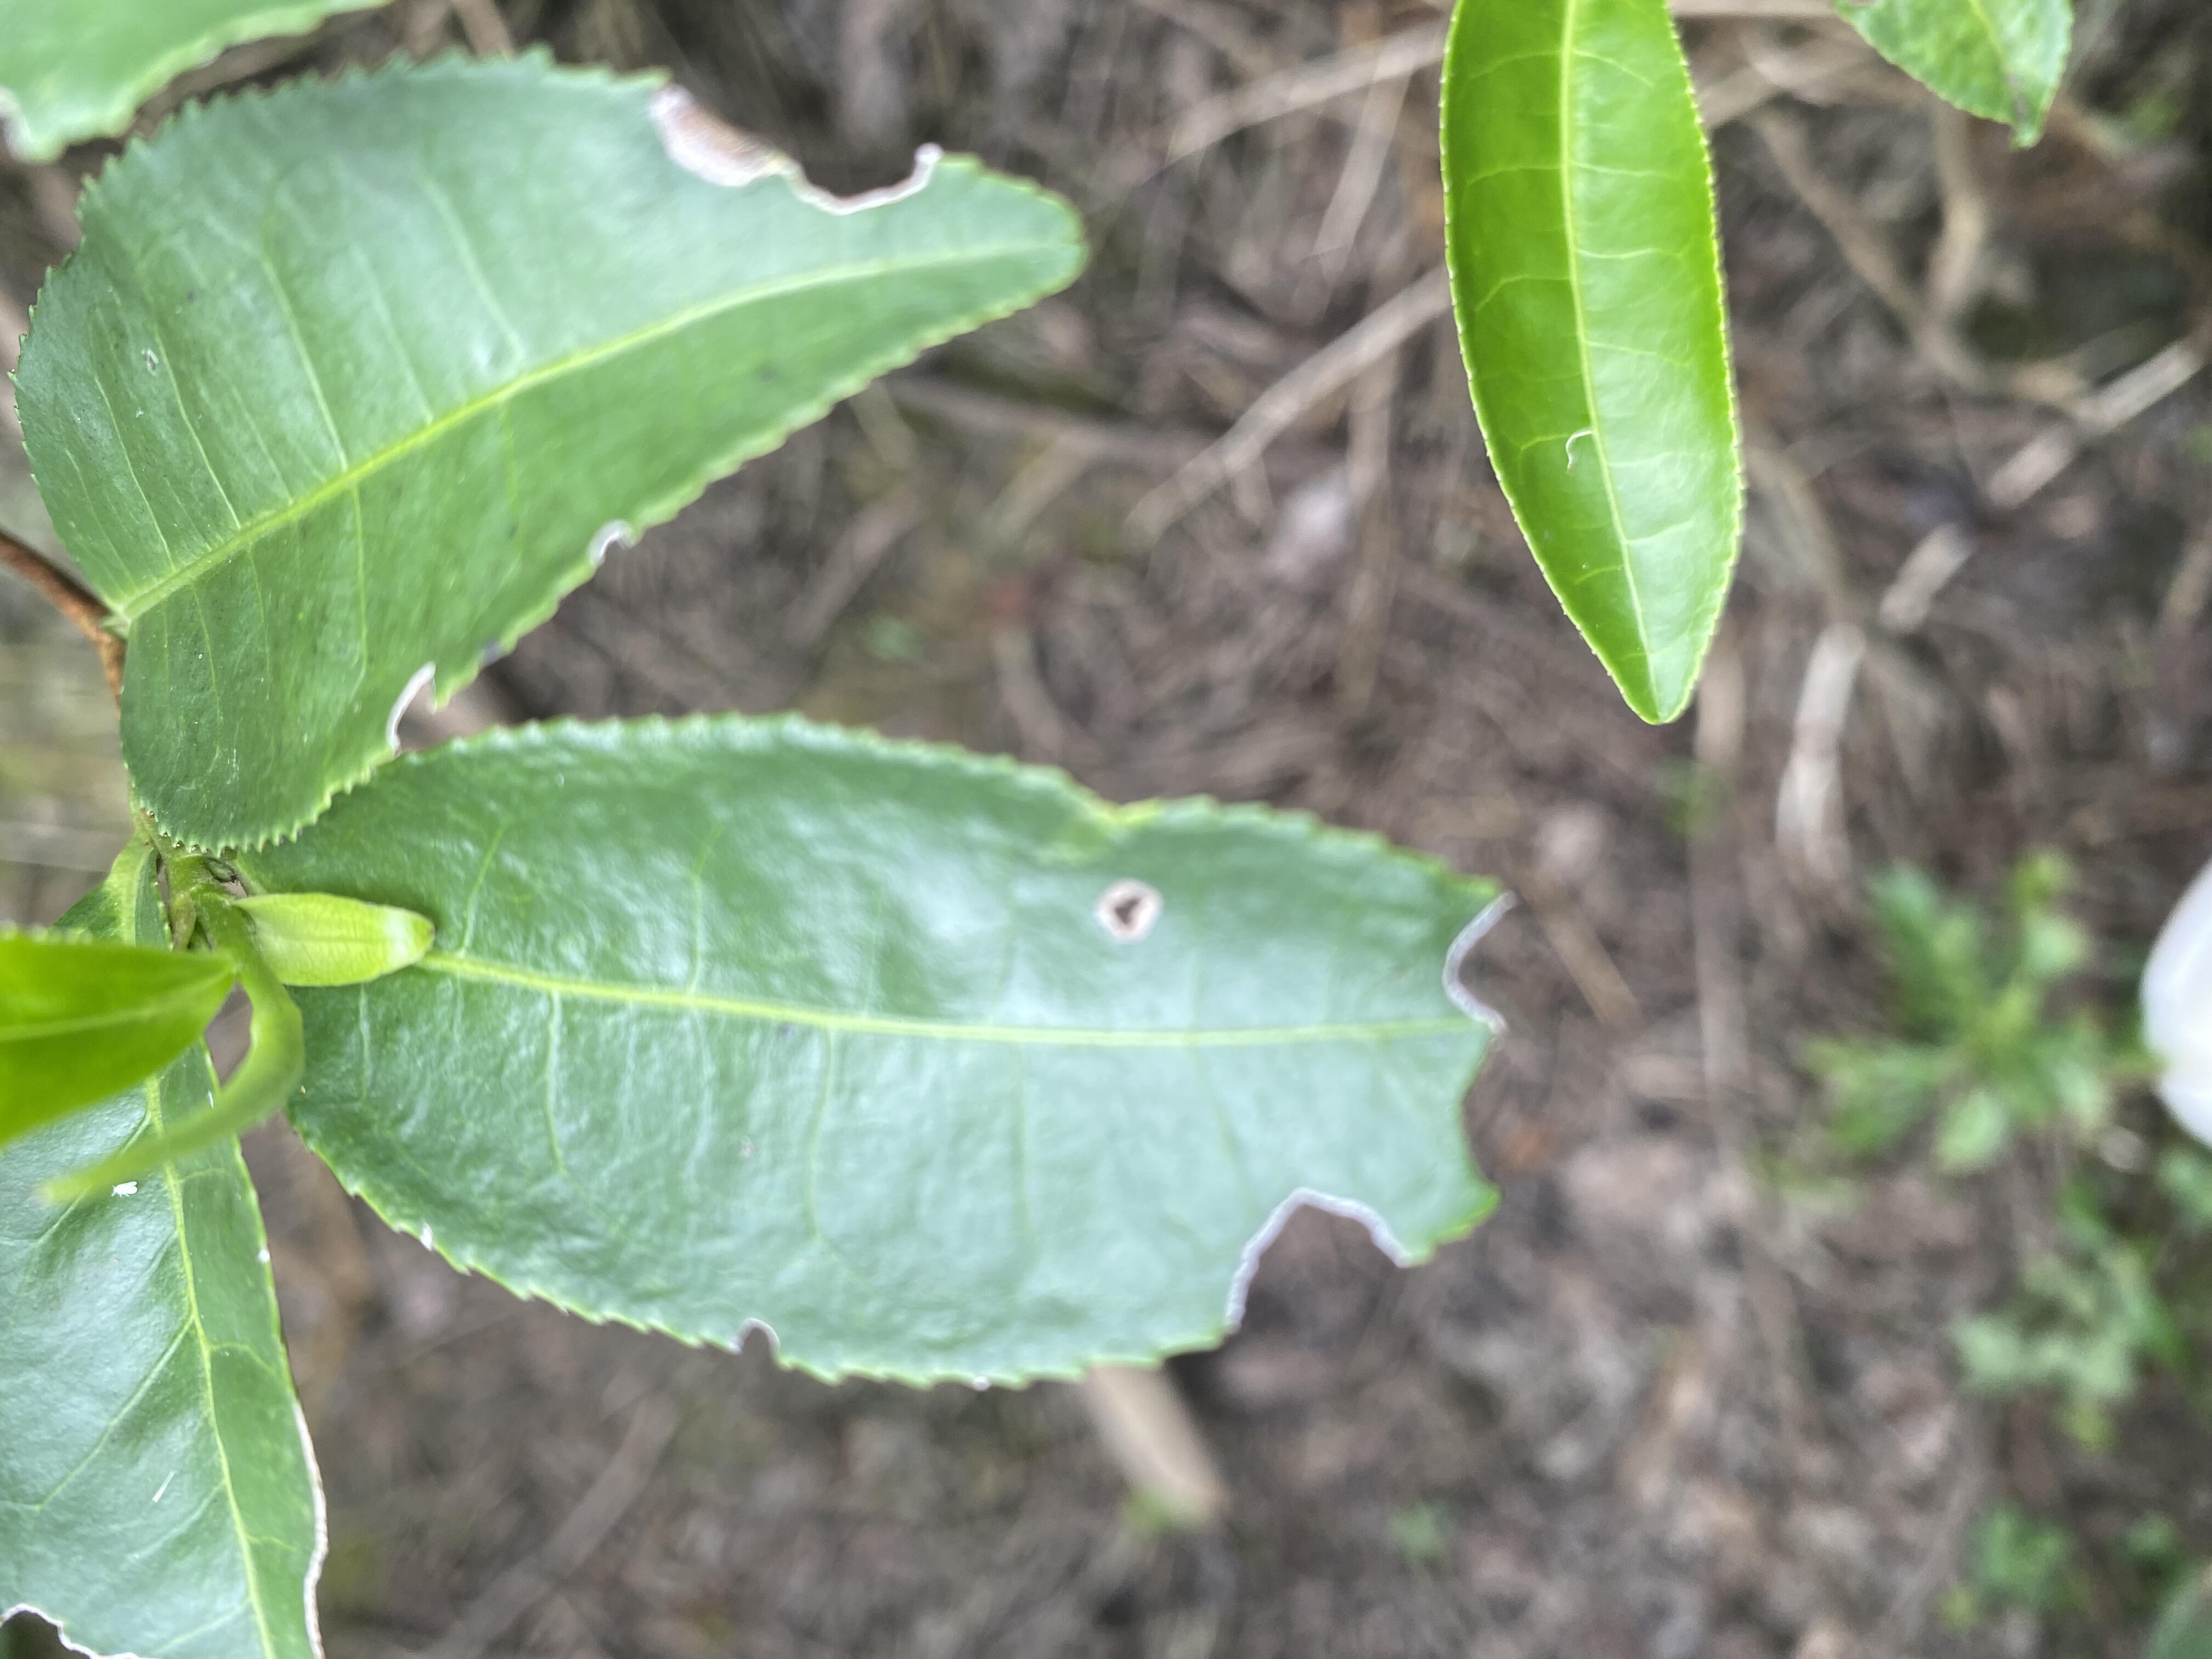chihuo_high: (7, 42, 1097, 847), (246, 709, 1526, 1394)
healthy: (1433, 3, 1754, 728)
